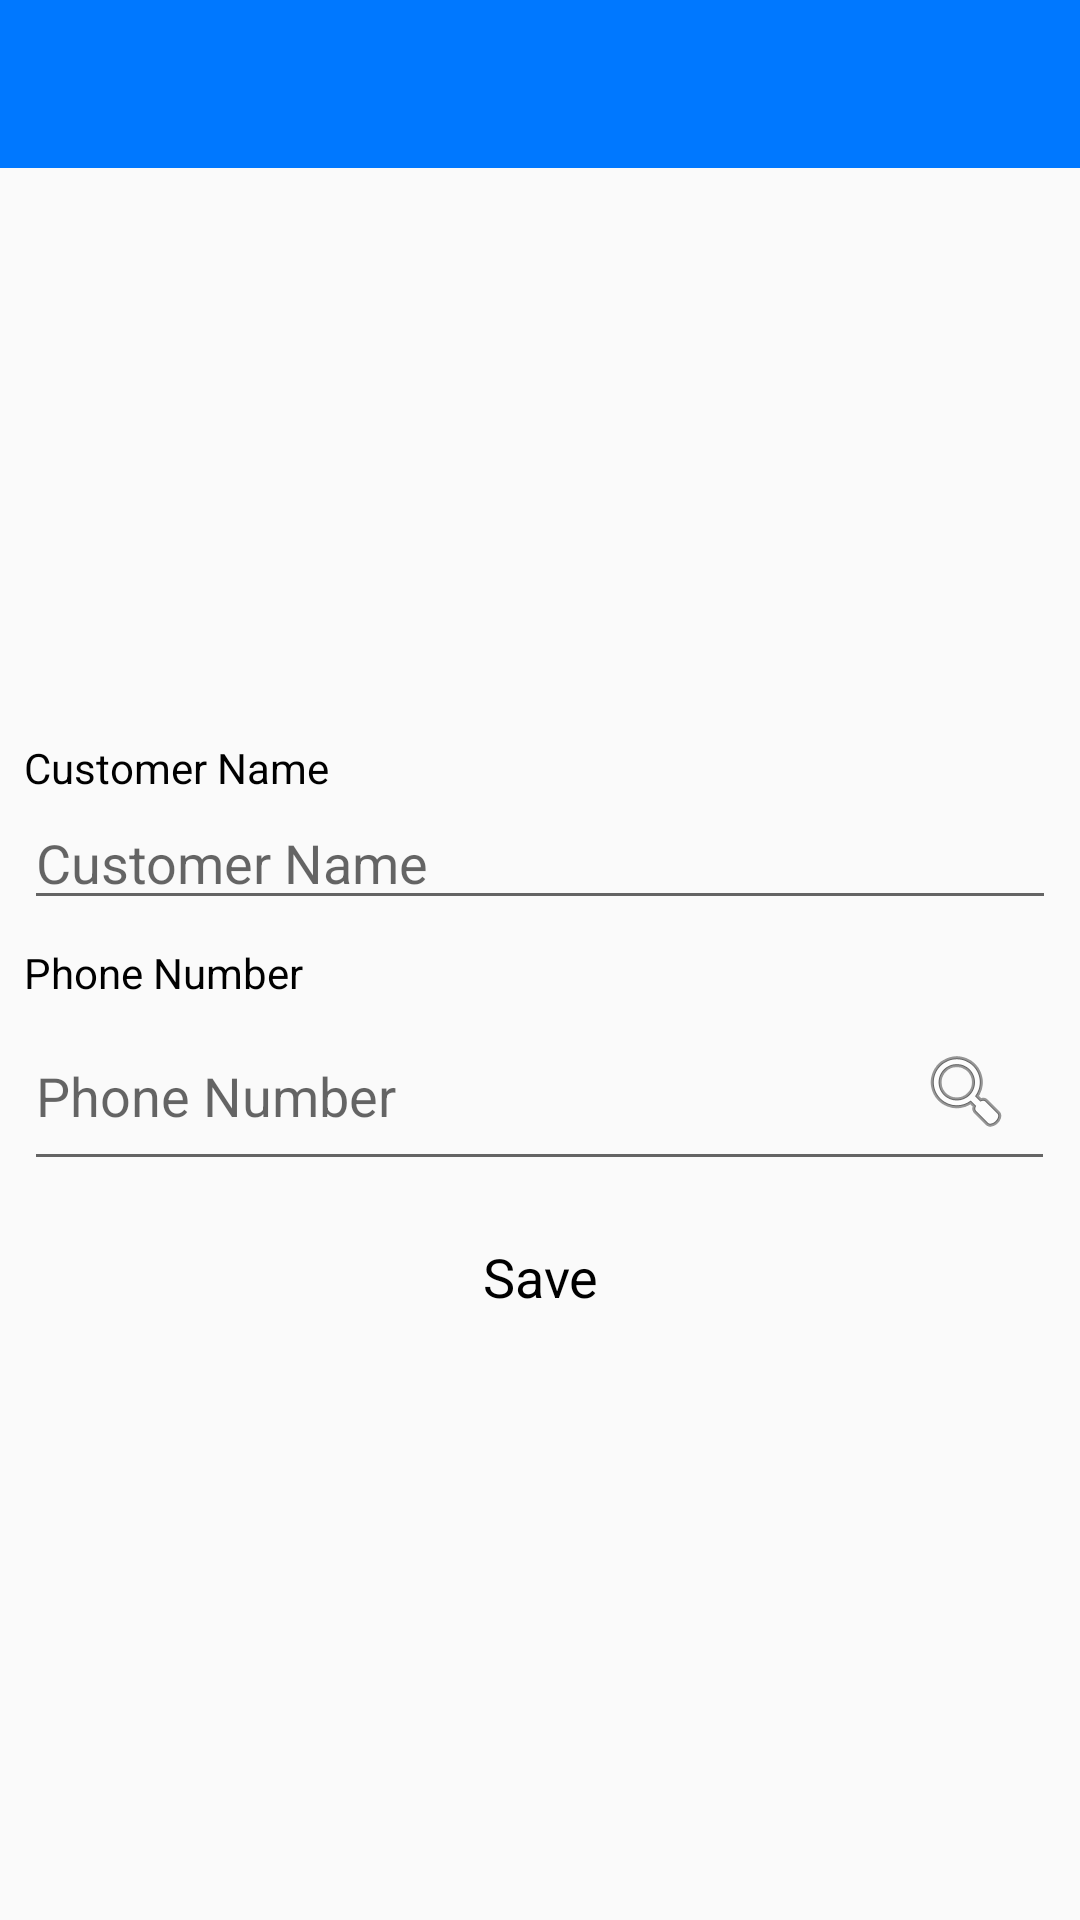

Named icons in this screenshot (1080px×1920px) and their centers, (x=x, y=y):
search: (x=966, y=1091)
